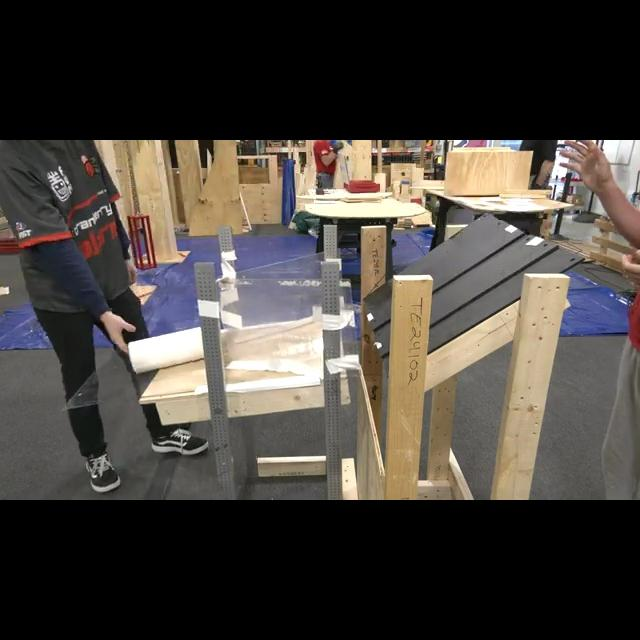CORAL: (128, 328, 204, 374)
